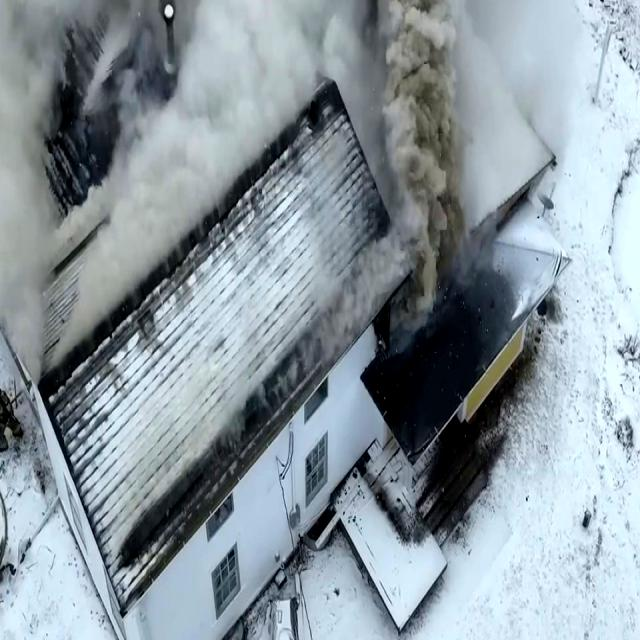smoke: (365, 0, 466, 341)
